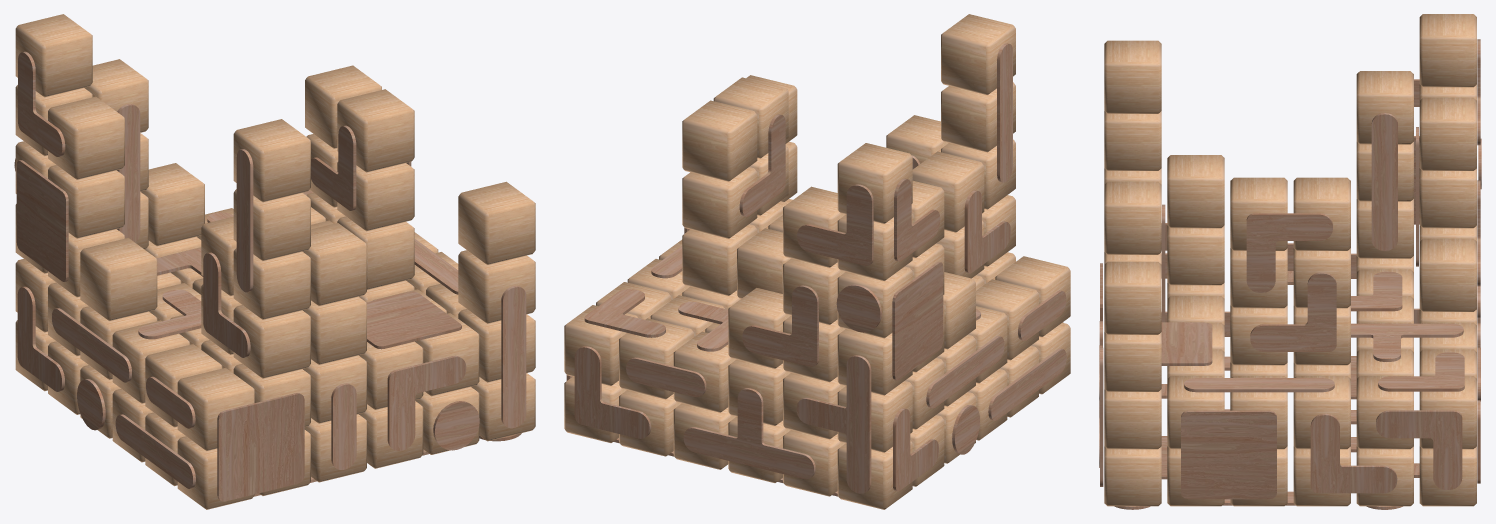
Rendered from level_97.fbx.
3 views of the same model, side by side, from view 1: azimuth 30°, elevation 25°; view 2: azimuth 150°, elevation 25°; view 3: azimuth 270°, elevation 25° (orthographic). The views are drawn at different scales.
Visible parts, largest first — view 1: obj_obs_square.006, Cube.082, Cube.091, obj_obs_square.001, Cube.096, Cube.102, Cube.079, Cube.090, Cube.083, Cube.095, Cube.087, Cube.086 (+59 smaller); view 2: Cube.080, obj_obs_T.001, obj_obs_T.003, obj_obs_square.001, Cube.090, Cube.078, Cube.102, obj_obs_L.003, obj_obs_L.004, Cube.076, obj_obs_L.001, Cube.089 (+60 smaller); view 3: obj_obs_square.004, Cube.082, Cube.087, Cube.088, Cube.090, Cube.095, Cube.101, Cube.102, obj_obs_L.008, obj_obs_L.009, obj_obs_L.015, obj_obs_L.014 (+50 smaller).
Boxes of the visible parts, box(x1,y1,x2,y2) form: obj_obs_square.006: box(217, 393, 304, 501); Cube.082: box(458, 181, 535, 264); Cube.091: box(80, 238, 157, 320); obj_obs_square.001: box(16, 160, 68, 281); Cube.096: box(48, 96, 124, 179); Cube.102: box(15, 14, 92, 97); Cube.079: box(337, 89, 414, 172); Cube.090: box(233, 119, 310, 202); Cube.083: box(233, 305, 310, 378); Cube.095: box(141, 163, 204, 246); Cube.087: box(302, 223, 366, 305); Cube.086: box(233, 248, 310, 319); Cube.080: box(682, 100, 757, 181); obj_obs_T.001: box(796, 355, 871, 493); obj_obs_T.003: box(683, 388, 815, 479); obj_obs_square.001: box(892, 262, 943, 380); Cube.090: box(941, 14, 1015, 94); Cube.078: box(682, 167, 757, 238); Cube.102: box(837, 143, 912, 223); obj_obs_L.003: box(574, 346, 651, 438); obj_obs_L.004: box(797, 184, 873, 265); Cube.076: box(682, 224, 757, 295); obj_obs_L.001: box(742, 285, 818, 366); Cube.089: box(941, 82, 1015, 152); obj_obs_square.004: box(1181, 410, 1276, 499); Cube.082: box(1104, 261, 1161, 334); Cube.087: box(1104, 181, 1161, 254); Cube.088: box(1167, 155, 1224, 228); Cube.090: box(1104, 40, 1161, 113); Cube.095: box(1419, 238, 1476, 311); Cube.101: box(1419, 97, 1476, 170); Cube.102: box(1419, 14, 1476, 87); obj_obs_L.008: box(1310, 413, 1397, 493); obj_obs_L.009: box(1376, 410, 1462, 489); obj_obs_L.015: box(1246, 213, 1332, 292); obj_obs_L.014: box(1250, 272, 1336, 351).
Size of the model in its own units: 13.3 by 13.15 by 13.33.
